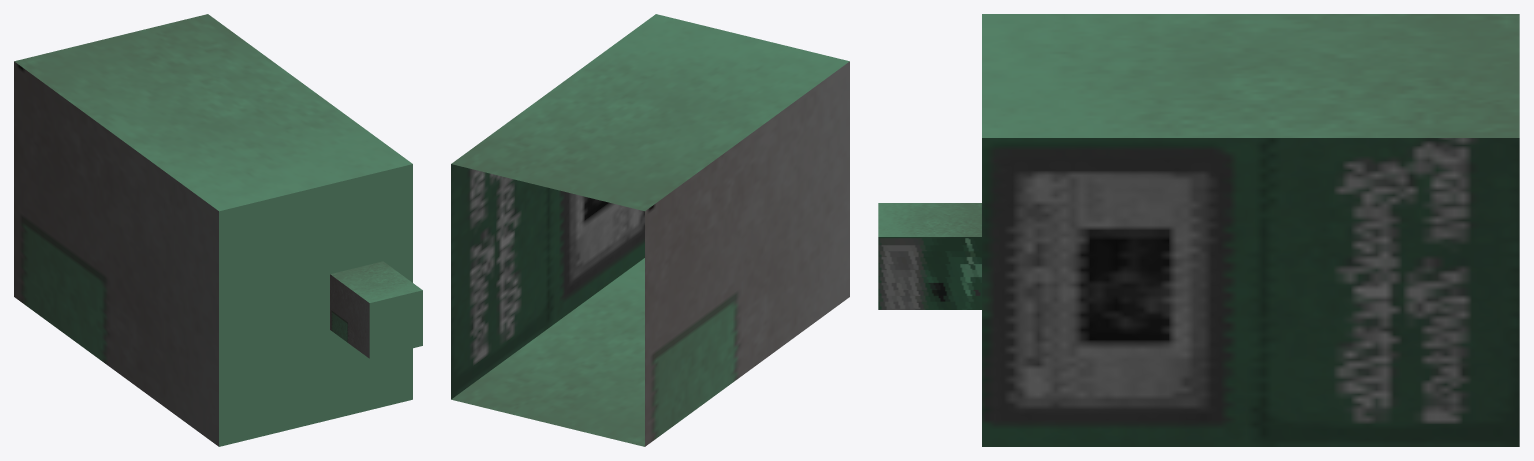
The model's file is pz_native_street_decoration_01_92.obj.
3 renders of one model, left to right at view 1: azimuth 30°, elevation 25°; view 2: azimuth 150°, elevation 25°; view 3: azimuth 270°, elevation 25°, orthographic. The views are drawn at different scales.
Visible parts, largest first — view 1: pz_native_street_decoration_01_92; view 2: pz_native_street_decoration_01_92; view 3: pz_native_street_decoration_01_92.
Boxes of the visible parts, x1=… form: pz_native_street_decoration_01_92: x1=14, y1=14, x2=422, y2=446; pz_native_street_decoration_01_92: x1=451, y1=14, x2=849, y2=446; pz_native_street_decoration_01_92: x1=878, y1=14, x2=1519, y2=446.
Bounding box in the file's own units: 0.6723 × 0.7808 × 1.47.
Materials: 1 (1 with a texture image).
